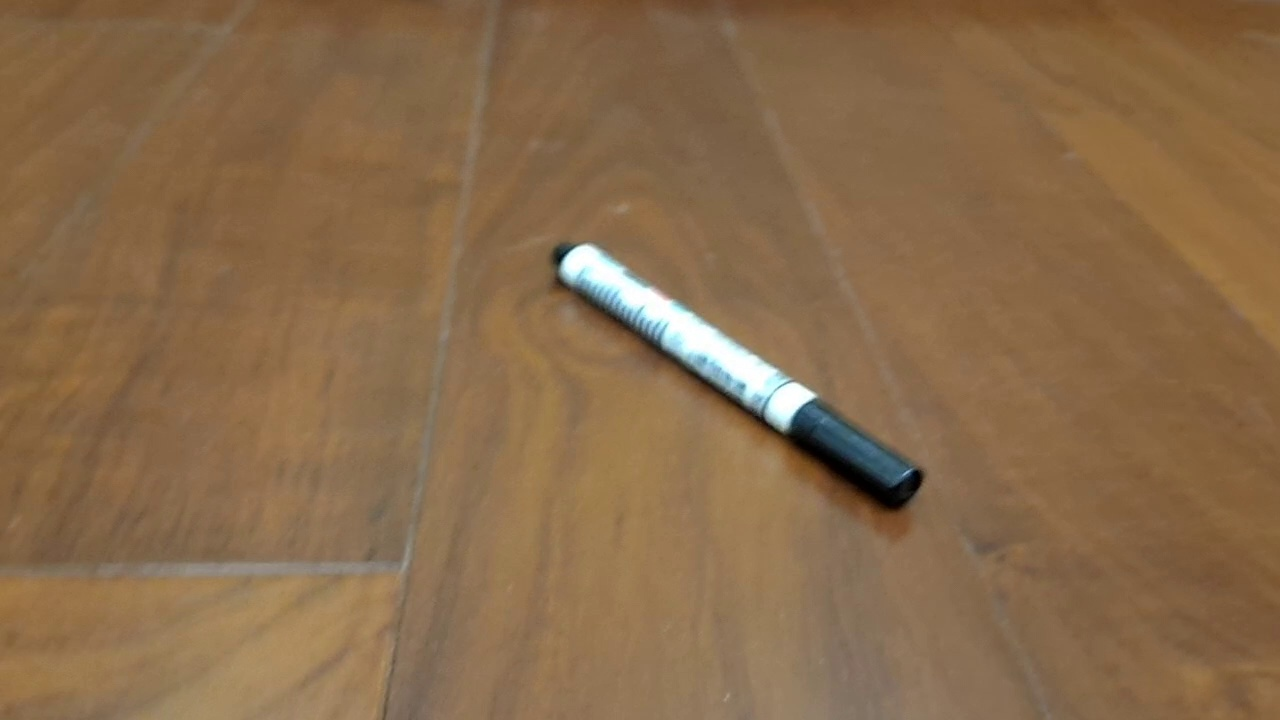pen: (551, 240, 925, 512)
